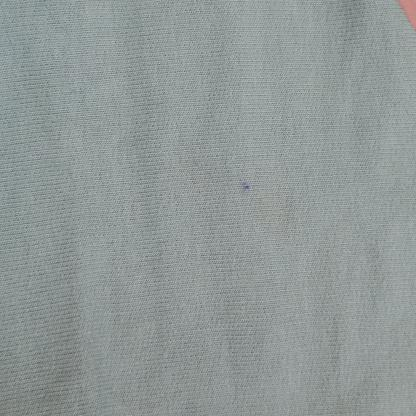spot: (239, 175, 254, 194)
